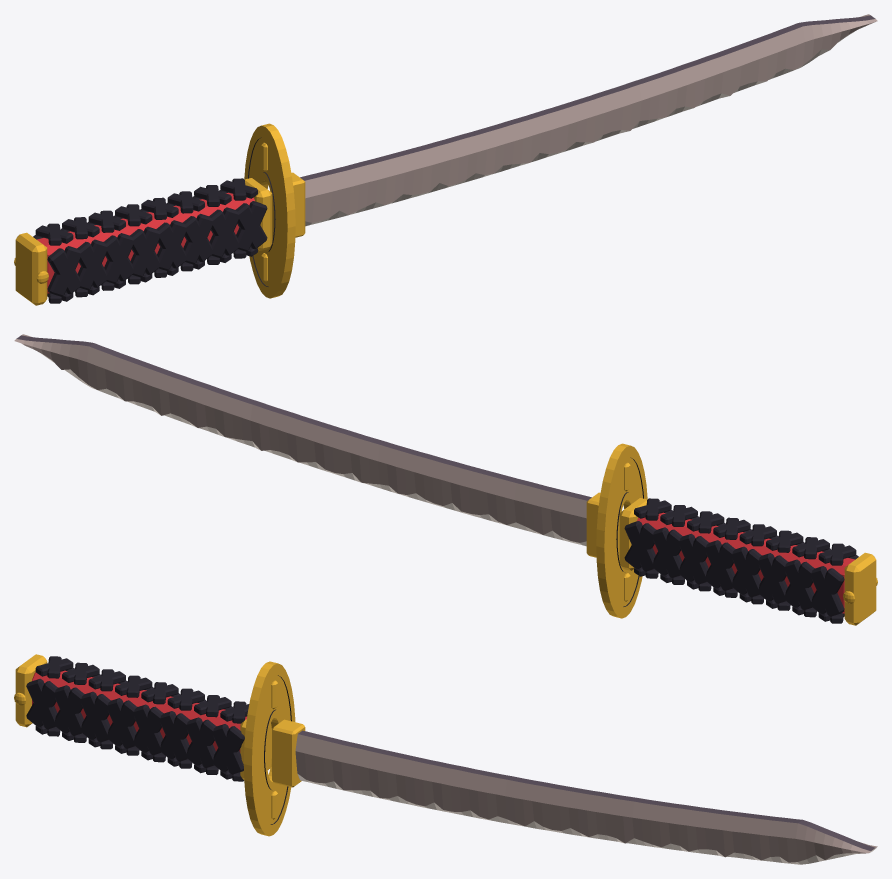
Rendered from wpn.katana.glb.
3 renders of one model, top to bottom at view 1: azimuth 30°, elevation 25°; view 2: azimuth 150°, elevation 25°; view 3: azimuth 330°, elevation 25°, orthographic.
Bounding box in the file's own units: 1.26 × 0.2398 × 0.1122.
